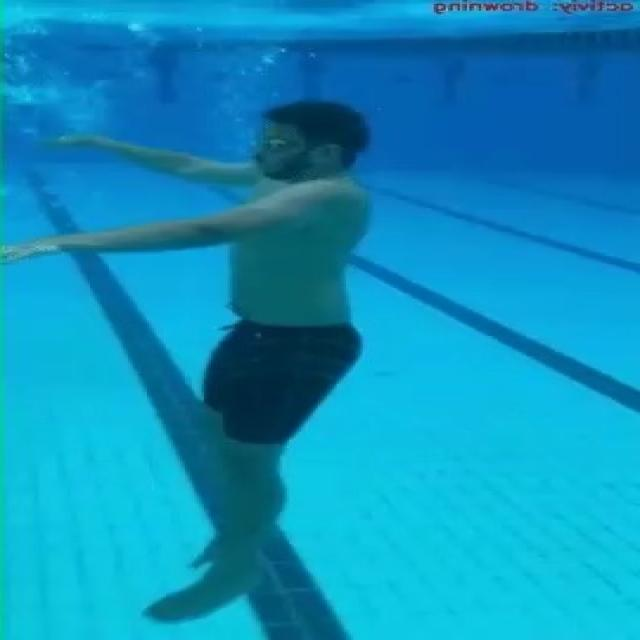drowning: (38, 85, 418, 577)
